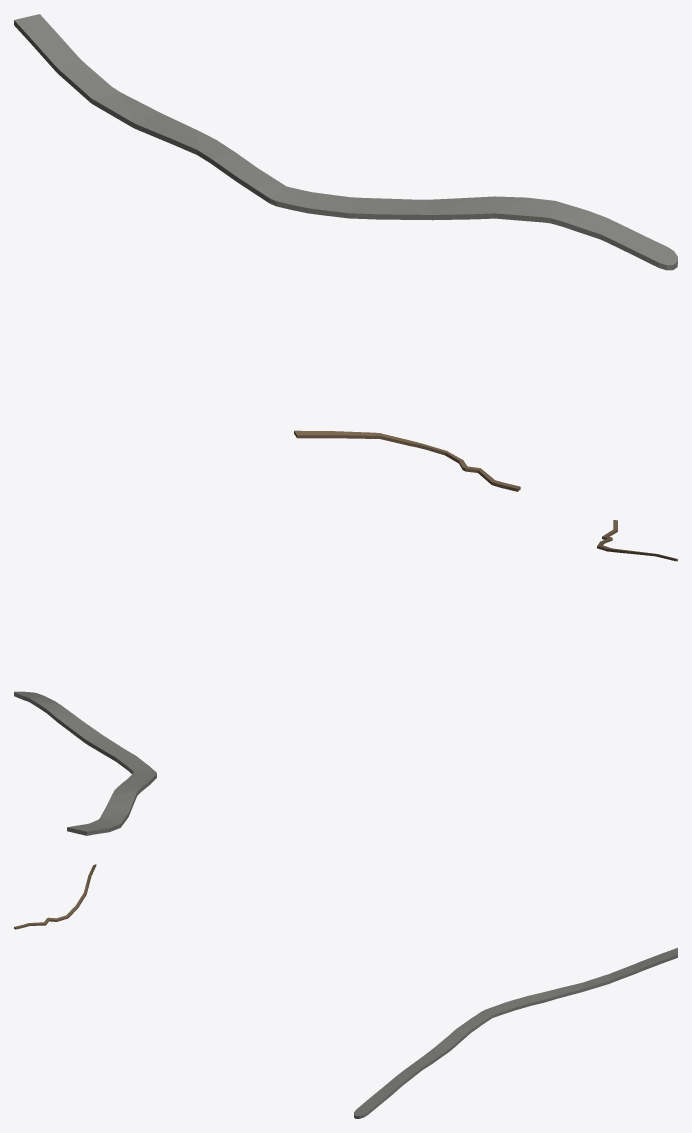
3 renders of one model, top to bottom at view 1: azimuth 30°, elevation 25°; view 2: azimuth 150°, elevation 25°; view 3: azimuth 270°, elevation 25°, orthographic. The views are drawn at different scales.
Size of the model in its own units: 150 by 36.39 by 249.
